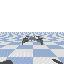drone: (22, 36, 43, 45)
